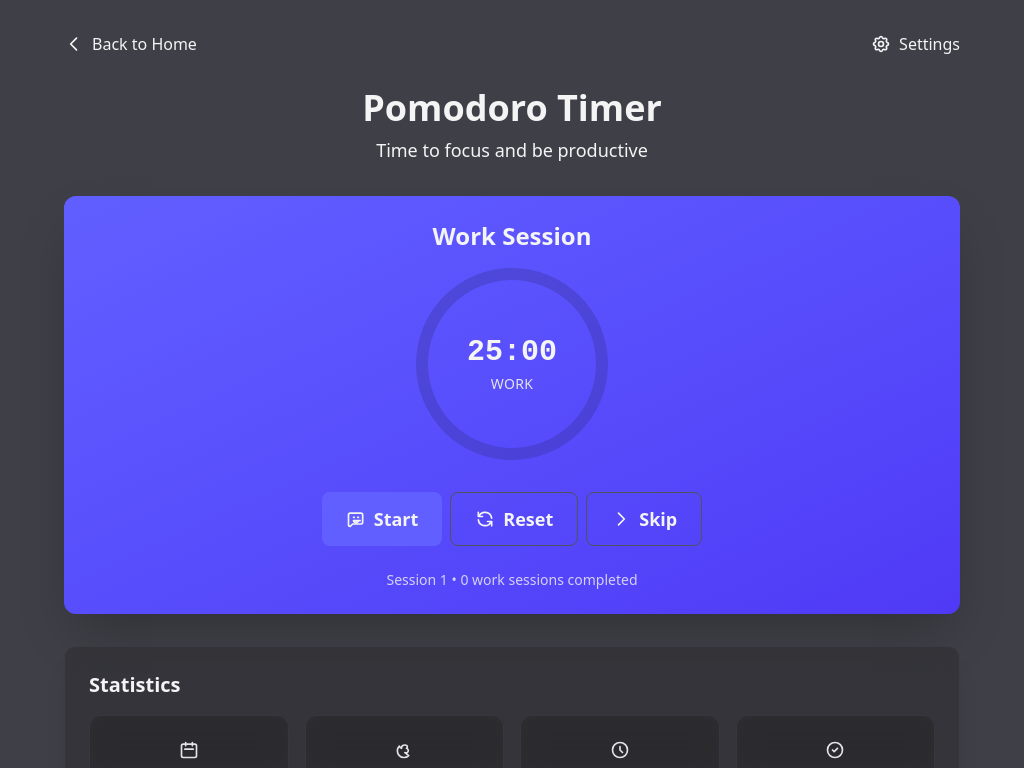
Test: PomodoroPage Integration Tests › Complete User Workflows › starts and pauses timer workflow
Note: Start timer
Click the button "Start": (382, 519) [322,492,442,546]
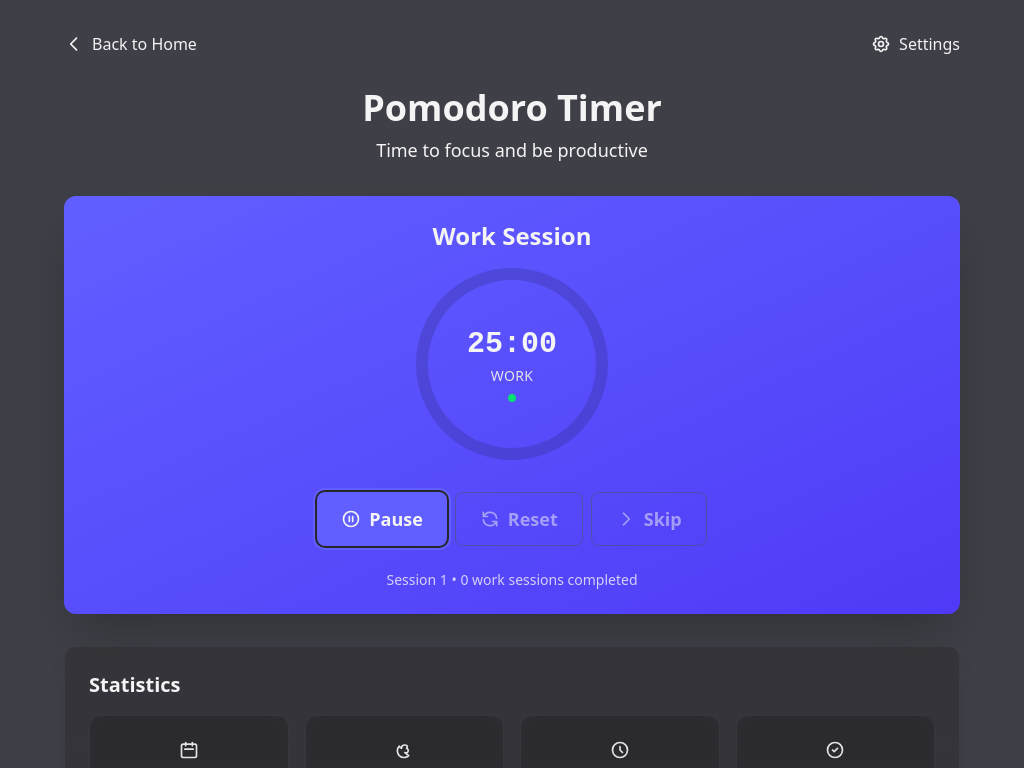
Now the button "Pause" is shown
Note: Pause timer
Click the button "Pause": (382, 519) [317,492,447,546]
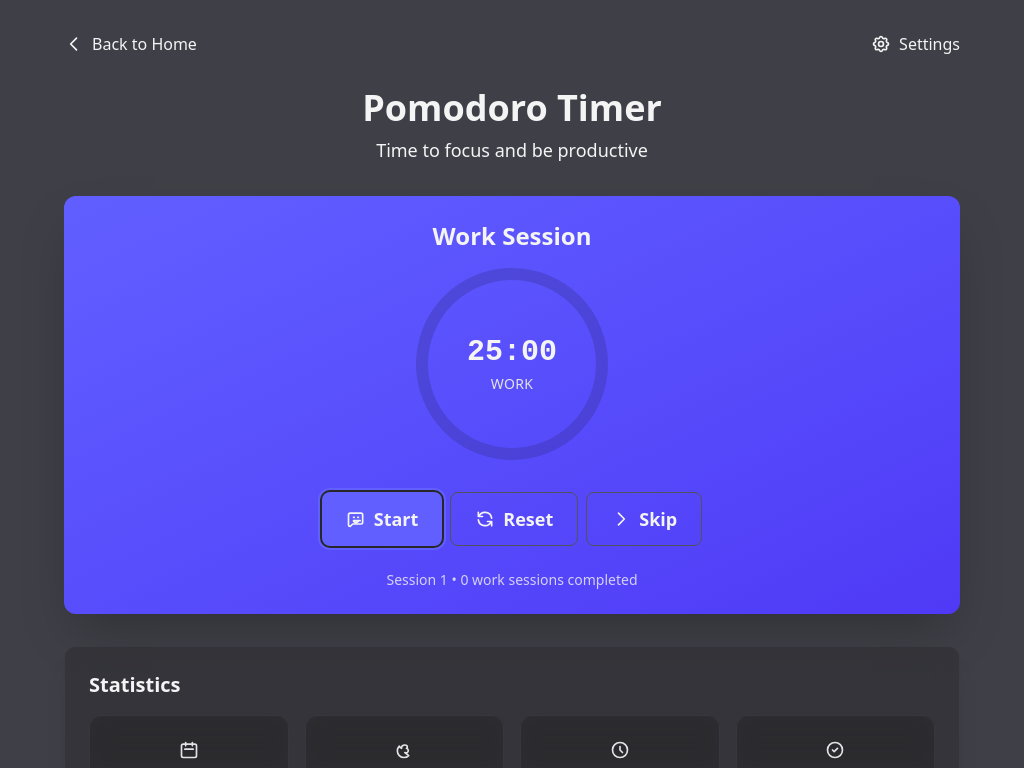
Now the button "Start" is shown, box [322,492,442,546]
